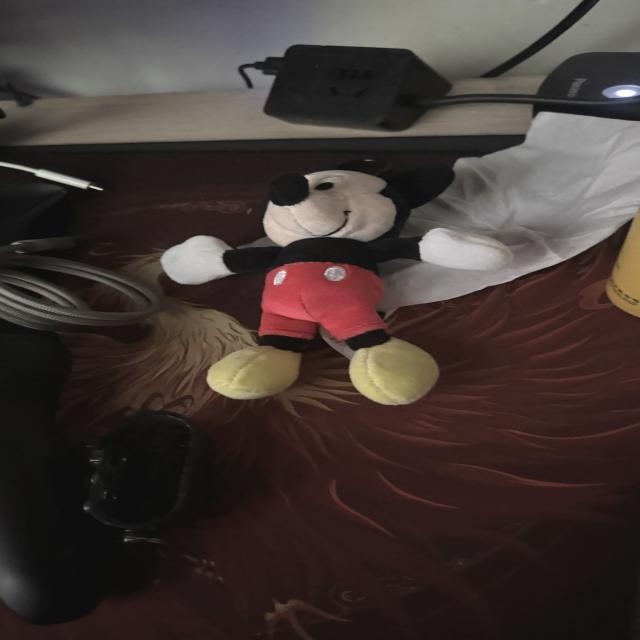mickey: (162, 167, 511, 404)
tissue: (379, 113, 639, 310)
